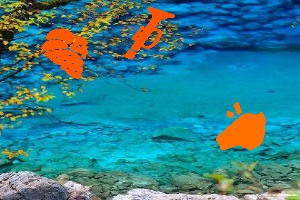冰淇淋: (45, 29, 88, 80)
喇叭: (123, 7, 175, 59)
玩具头: (214, 100, 269, 152)
